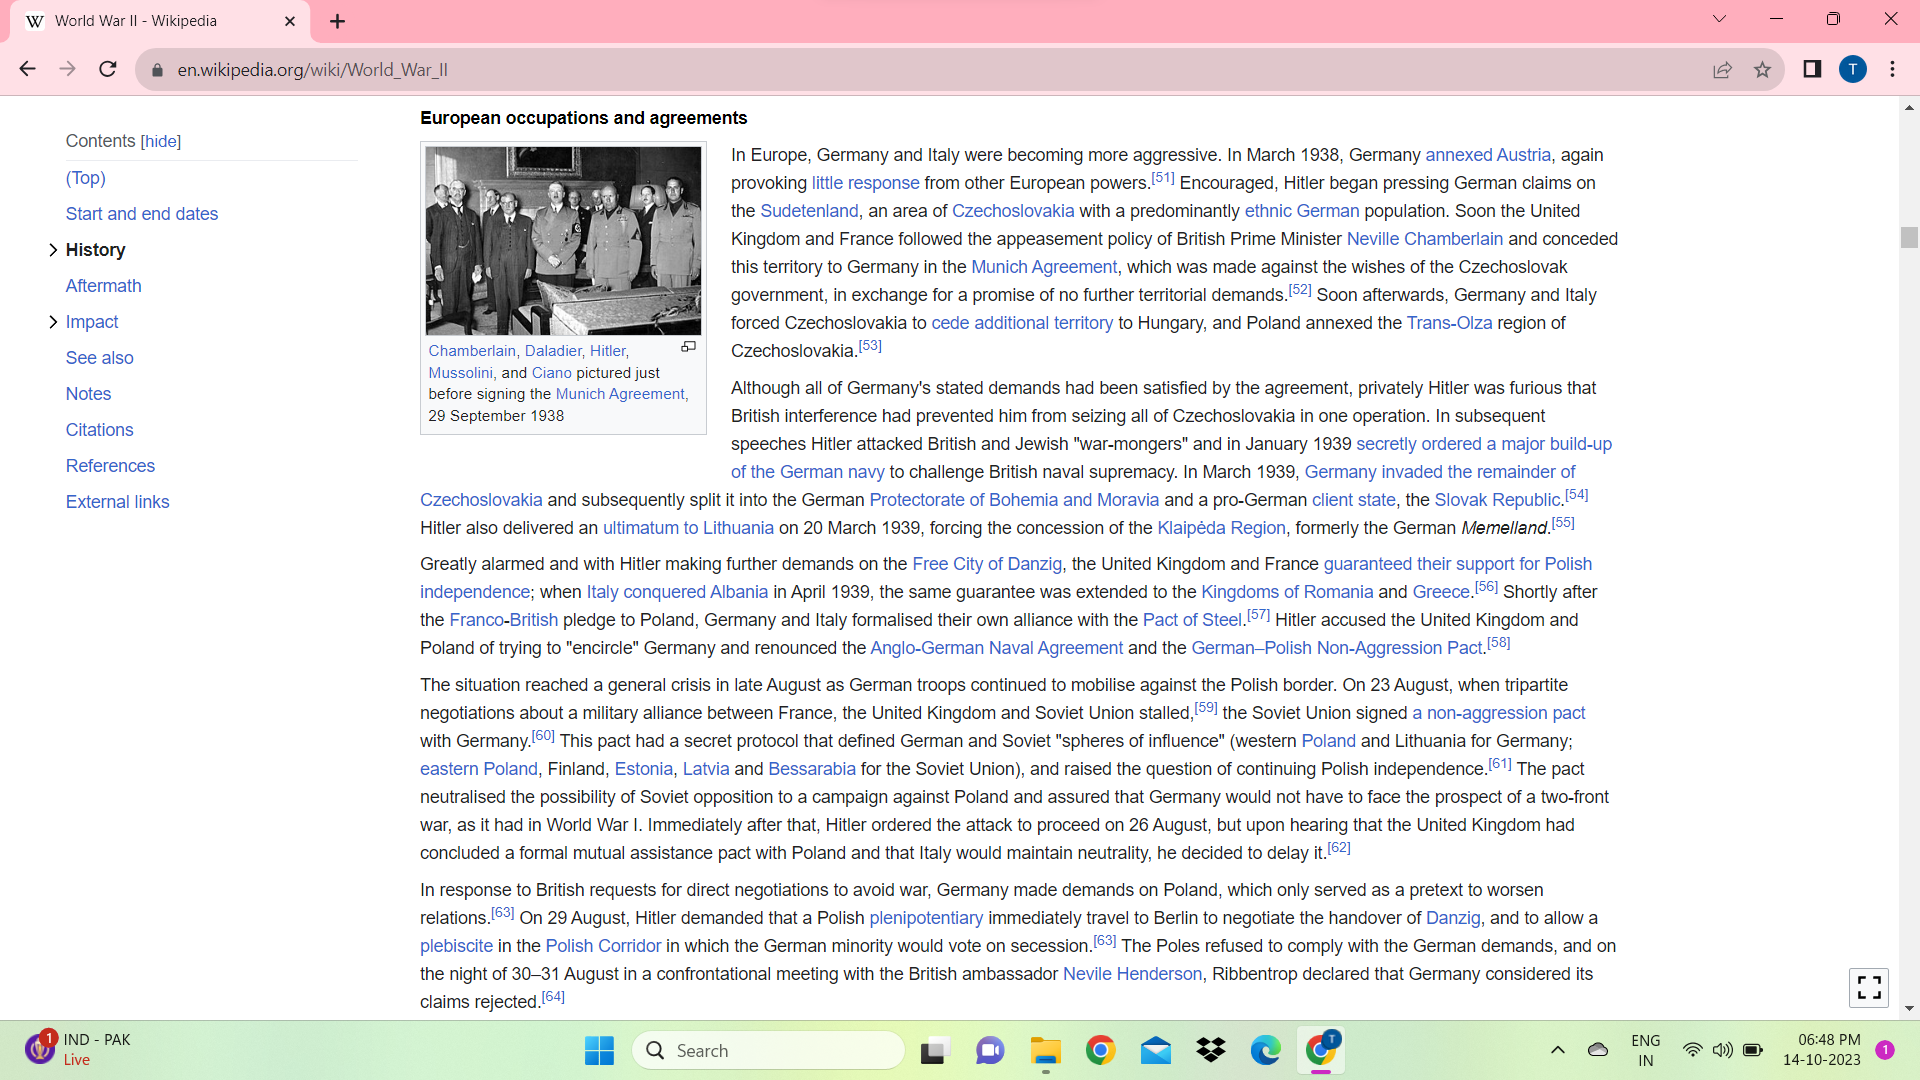Image: (407, 140, 709, 343)
Paragraph: (400, 667, 1635, 861), (394, 367, 1642, 543), (716, 142, 1651, 364), (397, 876, 1638, 1014), (397, 549, 1697, 665), (410, 99, 761, 136), (51, 200, 248, 231), (58, 116, 204, 153), (57, 448, 170, 483), (58, 309, 136, 332), (65, 237, 132, 261), (61, 384, 119, 407), (65, 169, 115, 190)
